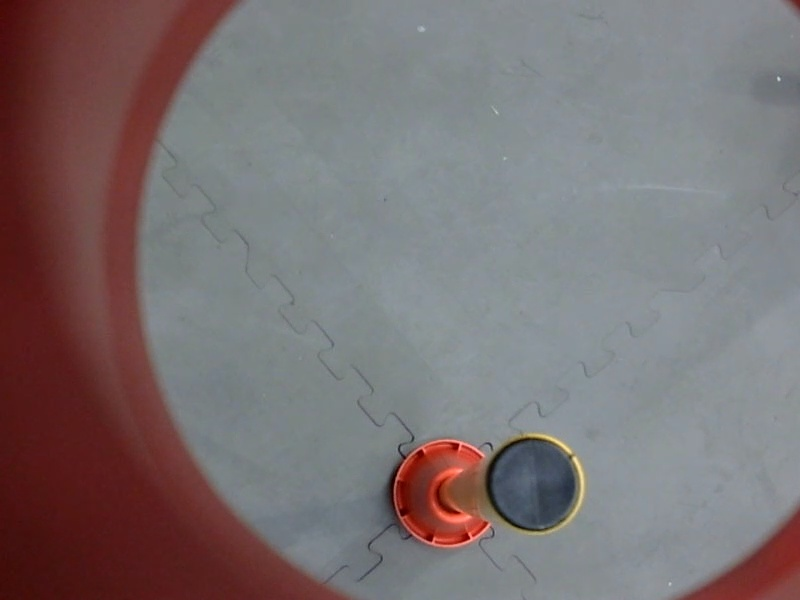tip: (478, 429, 598, 542)
